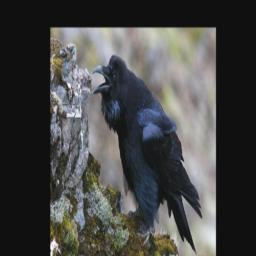Crow: (92, 53, 202, 256)
